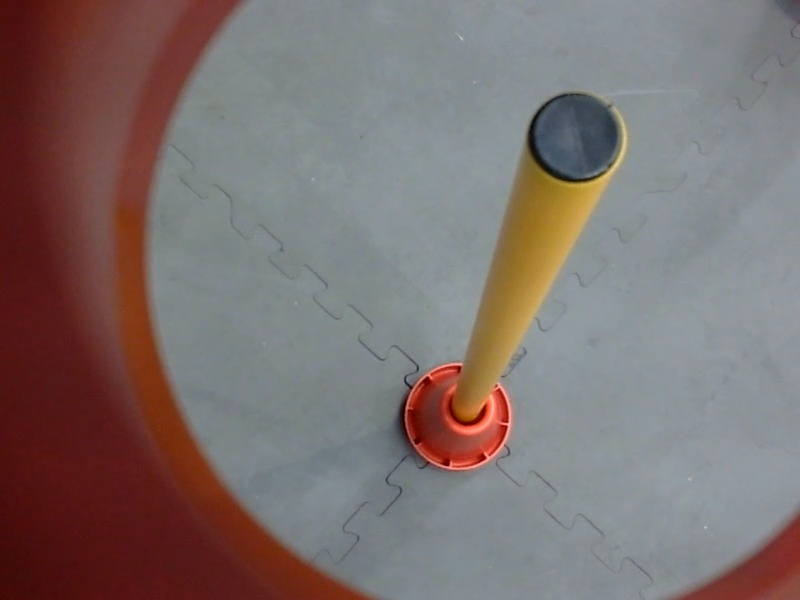tip: (516, 87, 633, 190)
